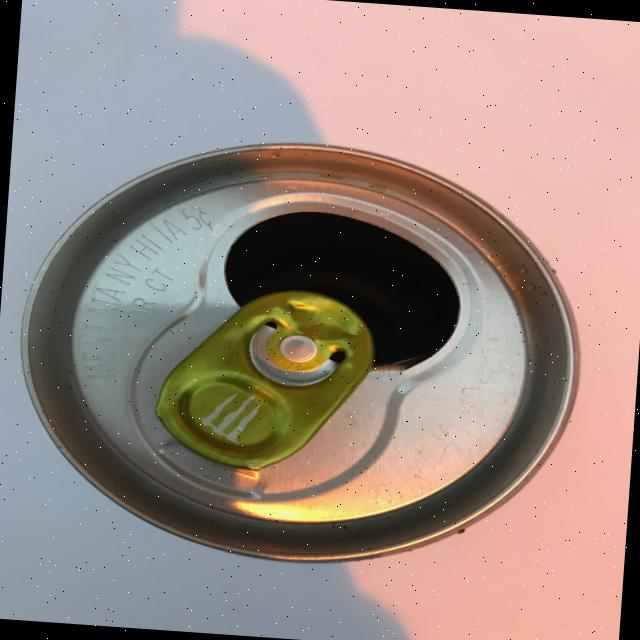metal: (6, 122, 594, 580)
